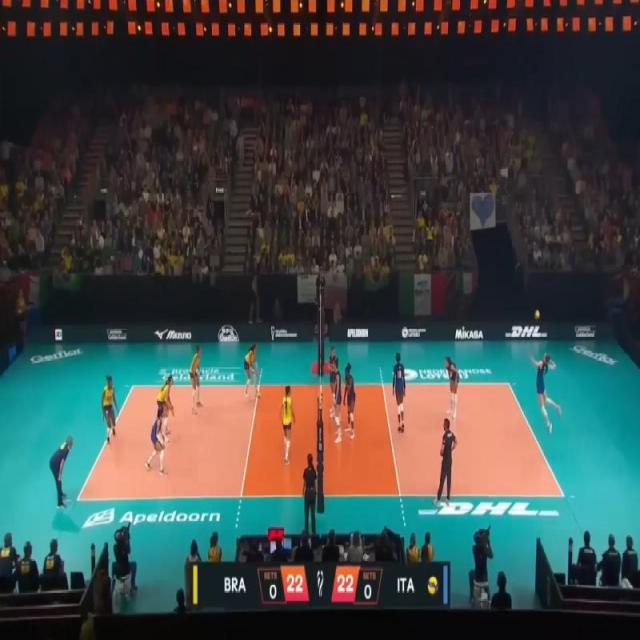volleyball: (534, 309, 540, 321)
